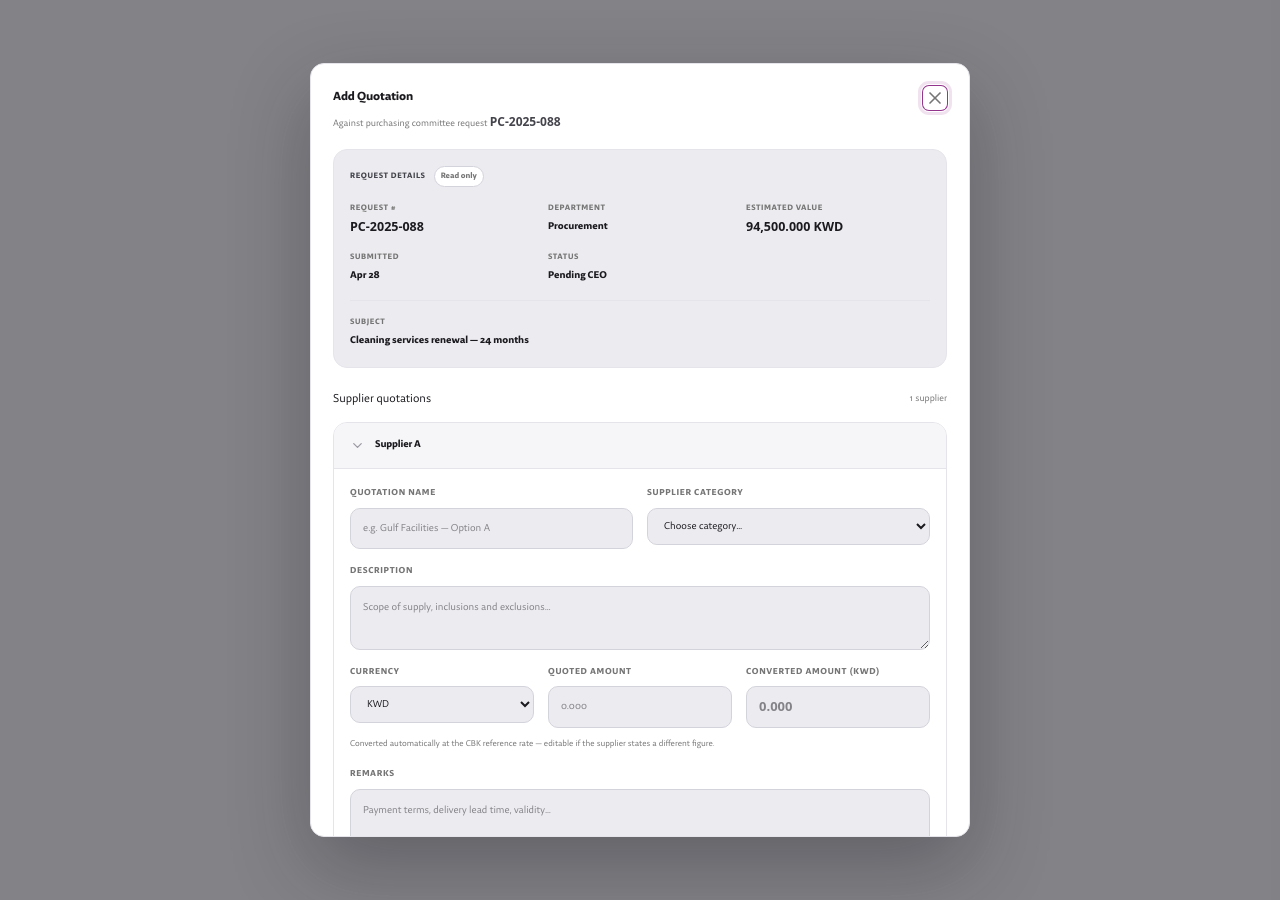
Test: AddQuotationDialog › keeps supplier state independent and allows multiple cards to remain open
Type "Supplier A quote" into the field labelled "Quotation name" at (492, 528), box [350,508,633,549]
(page scrolled)
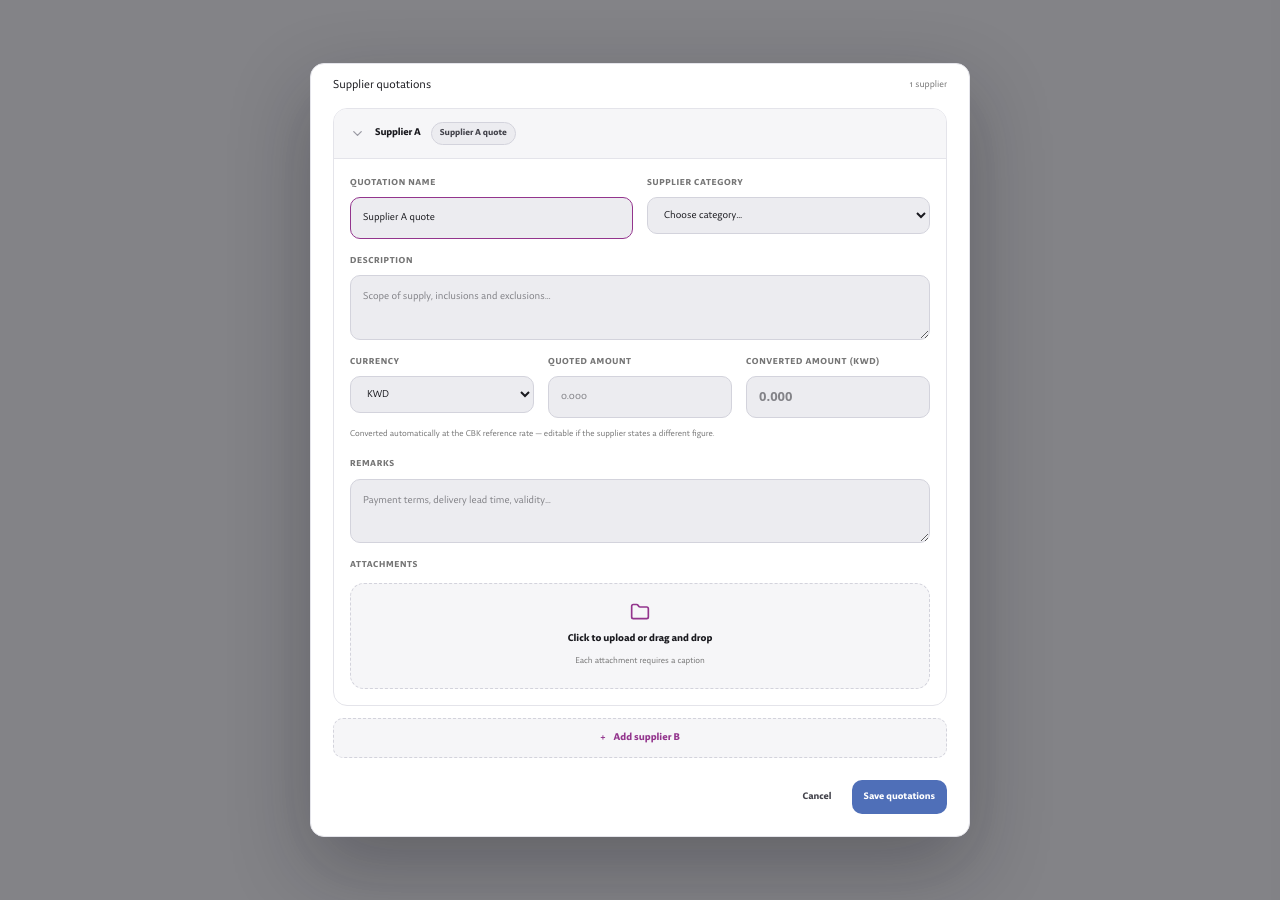
Click the button "+ Add supplier B" at (640, 738), box [333,718,947,758]
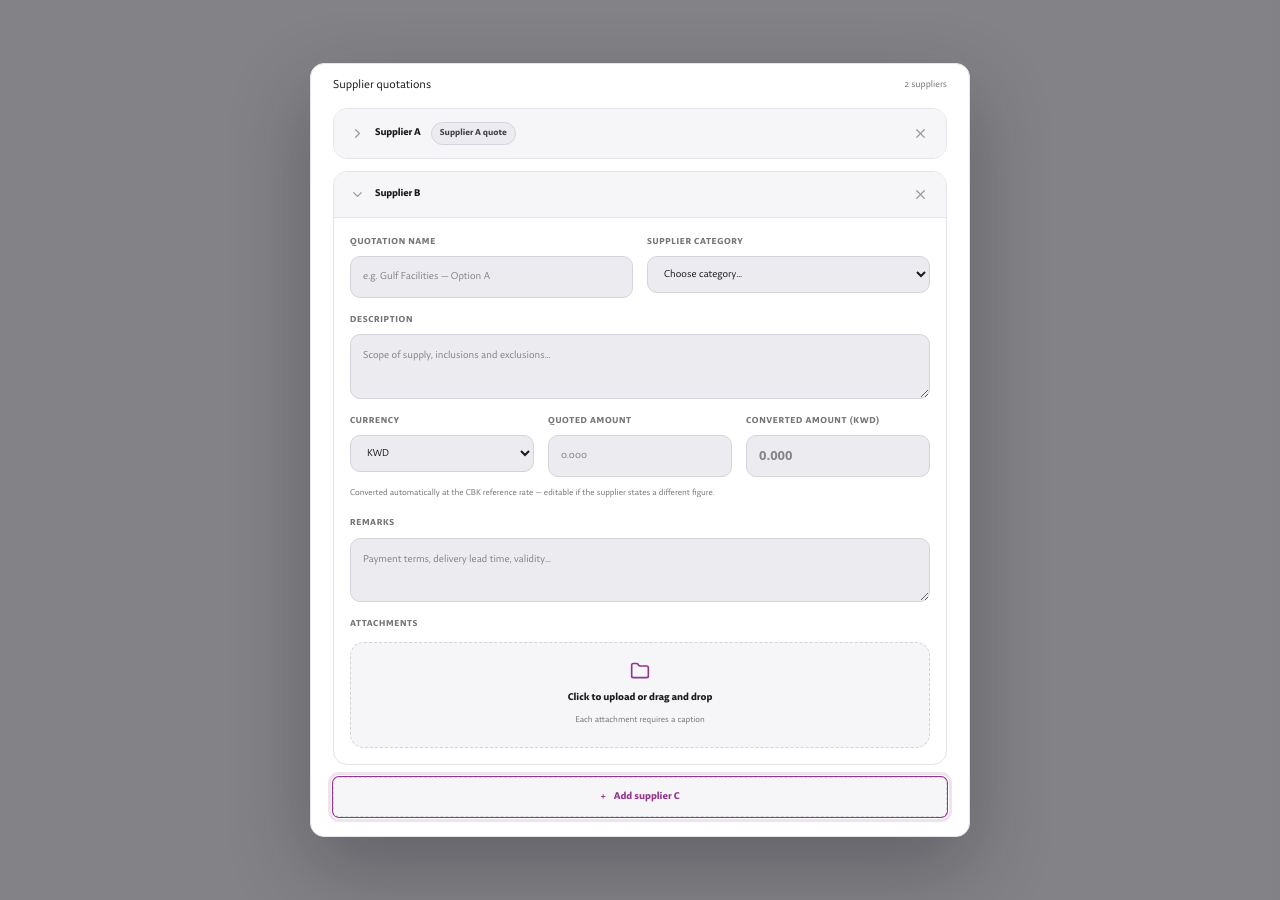
Now the field labelled "Quotation name" is empty
Type "Supplier B quote" into the field labelled "Quotation name" at (492, 277), box [350,256,633,298]
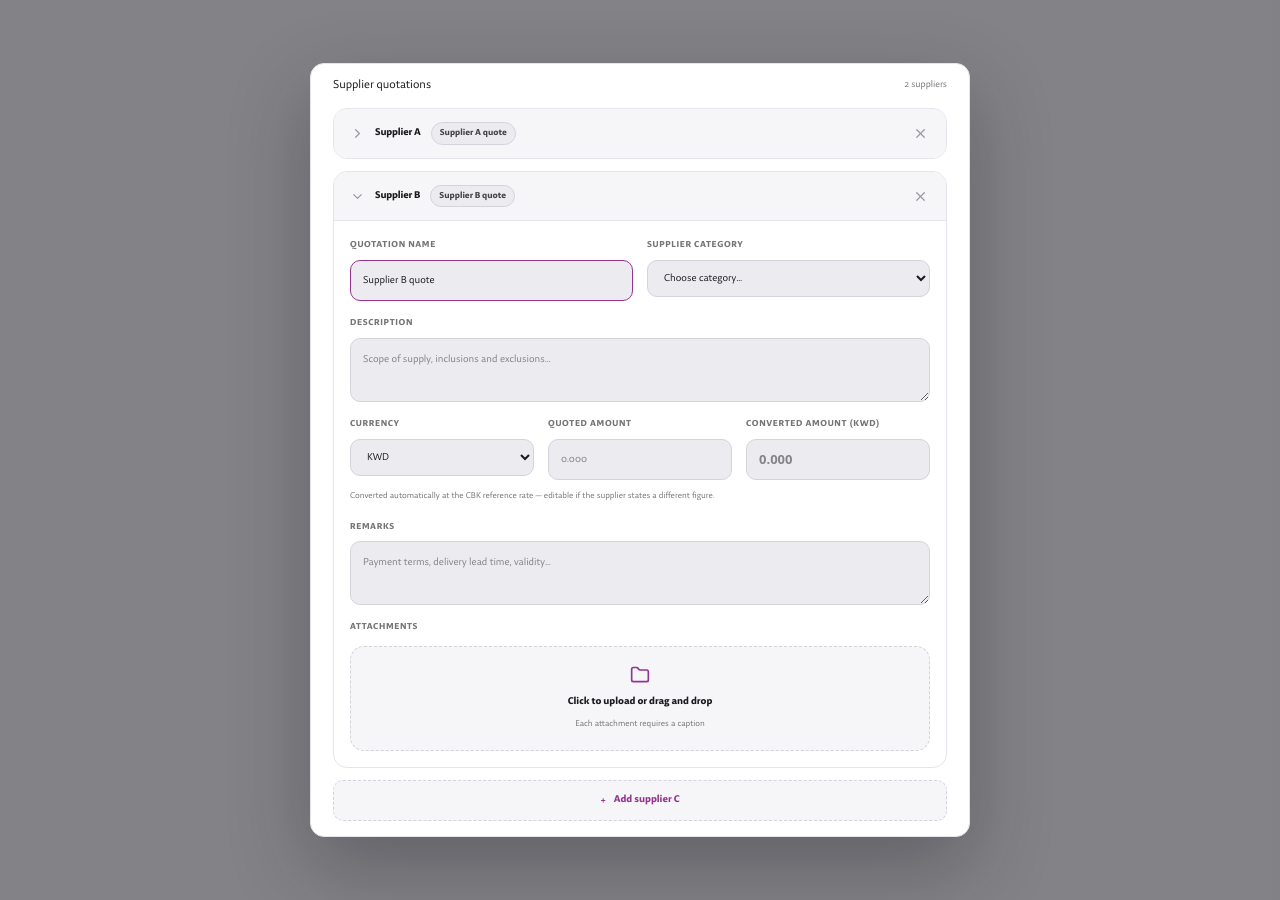
Click the button "Supplier A Supplier A quote" at (394, 133), box [350,122,899,145]
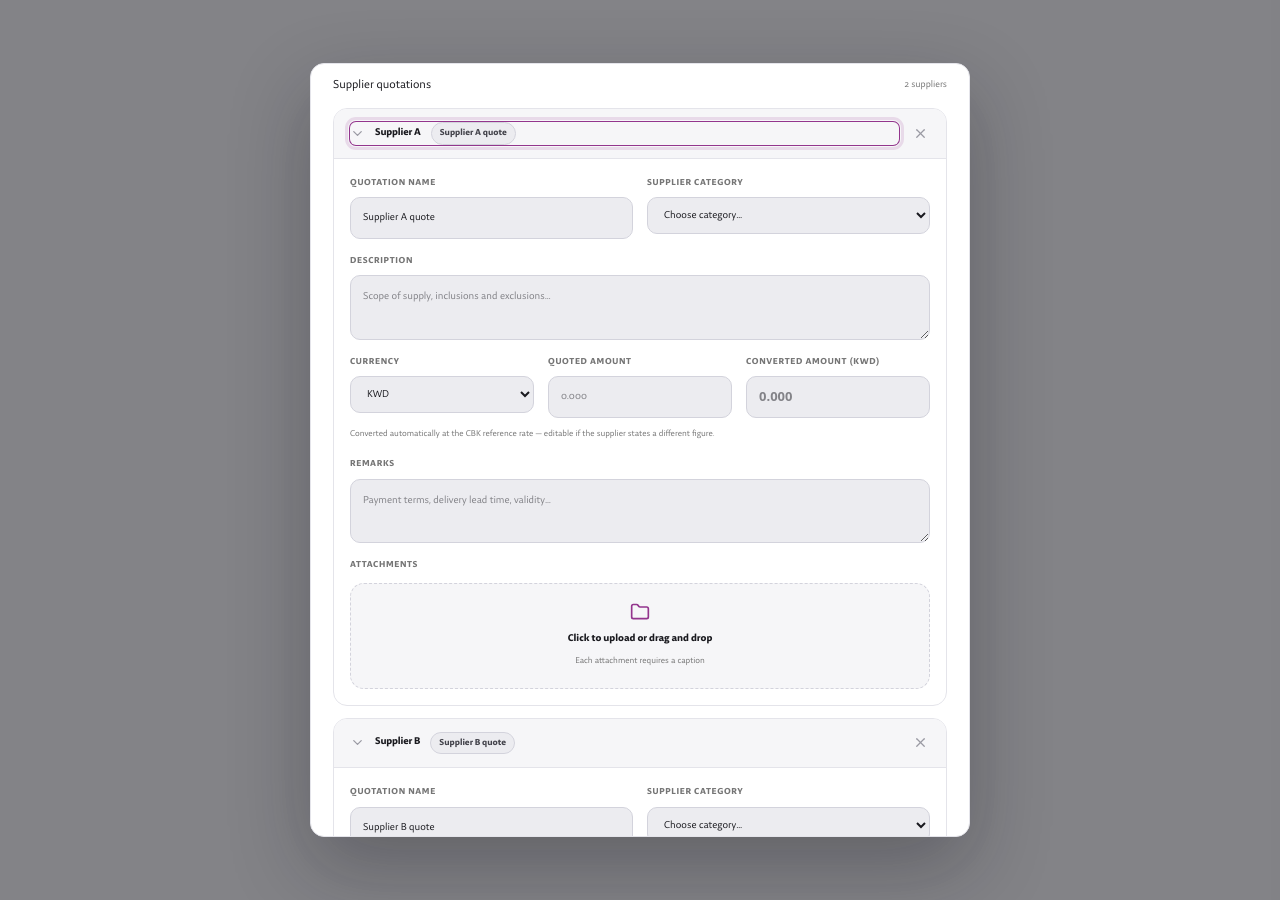
Now the number of fields labelled "Quotation name" is 2, box [350,197,633,239]; [350,806,633,836]
Now the 1st field labelled "Quotation name" holds "Supplier A quote", box [350,197,633,239]
